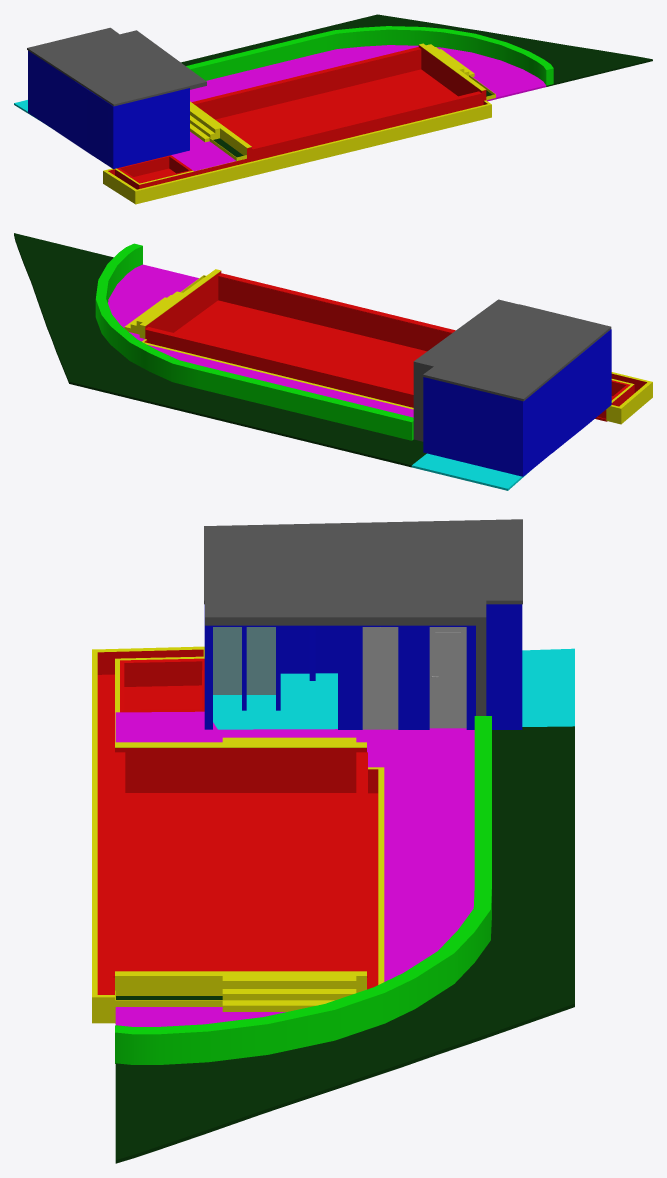
File: Simmingpool.fbx
3 views of the same model, one above another, from view 1: azimuth 30°, elevation 25°; view 2: azimuth 150°, elevation 25°; view 3: azimuth 270°, elevation 25° (orthographic). The views are drawn at different scales.
Visible parts, largest first — view 1: Floor1, Changingroom_wall, Simming_pool_Side, Simming_pool_Bottom, Plant, Simming_Side, changingroom_roof, Changingroom_design, polySurface28, pCube150, pCube149, Simmingpool_Top_Tiles1 (+2 smaller); view 2: Floor1, Changingroom_wall, Simming_pool_Side, Simming_pool_Bottom, changingroom_roof, Plant, Changingroom_design, Simming_Side, pCube149, pCube150, Simmingpool_Top_Tiles1, Simming_Side1; view 3: Floor1, Simming_pool_Bottom, changingroom_roof, Changingroom_wall, Plant, Simming_pool_Side, Changingroom_design, pCube153, Simming_Side, Door1, pCube157, Steps1 (+8 smaller).
Part boxes in pixels (<box>): Floor1: <box>14,14,652,171</box>; Changingroom_wall: <box>28,50,189,169</box>; Simming_pool_Side: <box>195,45,486,162</box>; Simming_pool_Bottom: <box>215,69,457,146</box>; Plant: <box>186,26,553,85</box>; Simming_Side: <box>103,100,491,204</box>; changingroom_roof: <box>27,27,190,106</box>; Changingroom_design: <box>120,30,206,89</box>; polySurface28: <box>117,155,192,183</box>; pCube150: <box>252,91,481,149</box>; pCube149: <box>192,47,420,104</box>; Simmingpool_Top_Tiles1: <box>419,43,486,90</box>; Floor1: <box>14,233,531,490</box>; Changingroom_wall: <box>423,329,611,476</box>; Simming_pool_Side: <box>139,271,451,407</box>; Simming_pool_Bottom: <box>174,300,426,391</box>; changingroom_roof: <box>423,304,611,401</box>; Plant: <box>95,243,413,440</box>; Changingroom_design: <box>413,299,518,441</box>; Simming_Side: <box>606,372,652,424</box>; pCube149: <box>145,327,413,395</box>; pCube150: <box>218,273,455,333</box>; Simmingpool_Top_Tiles1: <box>137,269,221,326</box>; Simming_Side1: <box>142,339,413,409</box>; Floor1: <box>115,648,574,1163</box>; Simming_pool_Bottom: <box>125,793,367,989</box>; changingroom_roof: <box>204,519,522,604</box>; Changingroom_wall: <box>204,604,522,729</box>; Plant: <box>115,716,491,1064</box>; Simming_pool_Side: <box>115,748,366,1023</box>; Changingroom_design: <box>205,600,486,715</box>; pCube153: <box>97,674,114,994</box>; Simming_Side: <box>92,646,204,1023</box>; Door1: <box>429,627,466,728</box>; pCube157: <box>362,627,398,729</box>; Steps1: <box>222,981,356,1011</box>.
Size of the model in its own units: 3167 by 452 by 1258.
